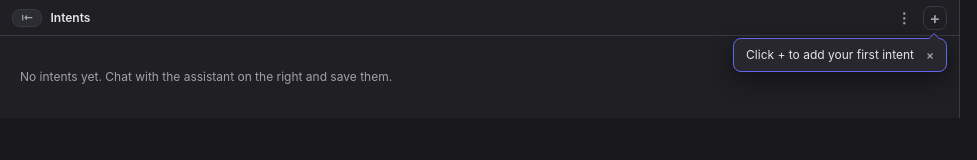
Test: IntentMergedList.vue — responsive header actions › moves automation and filter controls into a mobile overflow menu
Click the button with class "req-kebab".
click(904, 18)  # box [893,6,915,28]
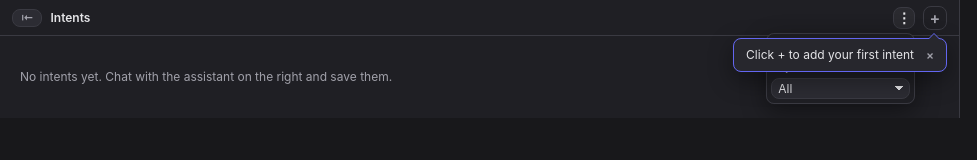
Expected: the button with class "auto-btn" is shown, [771,38,910,58]
Result: the dropdown with class "req-filter" is shown at [771,78,910,98]
